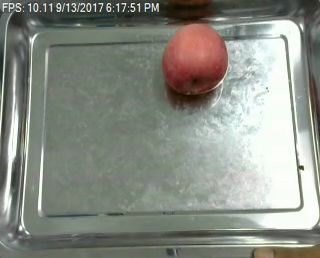Apple: (159, 21, 231, 100)
